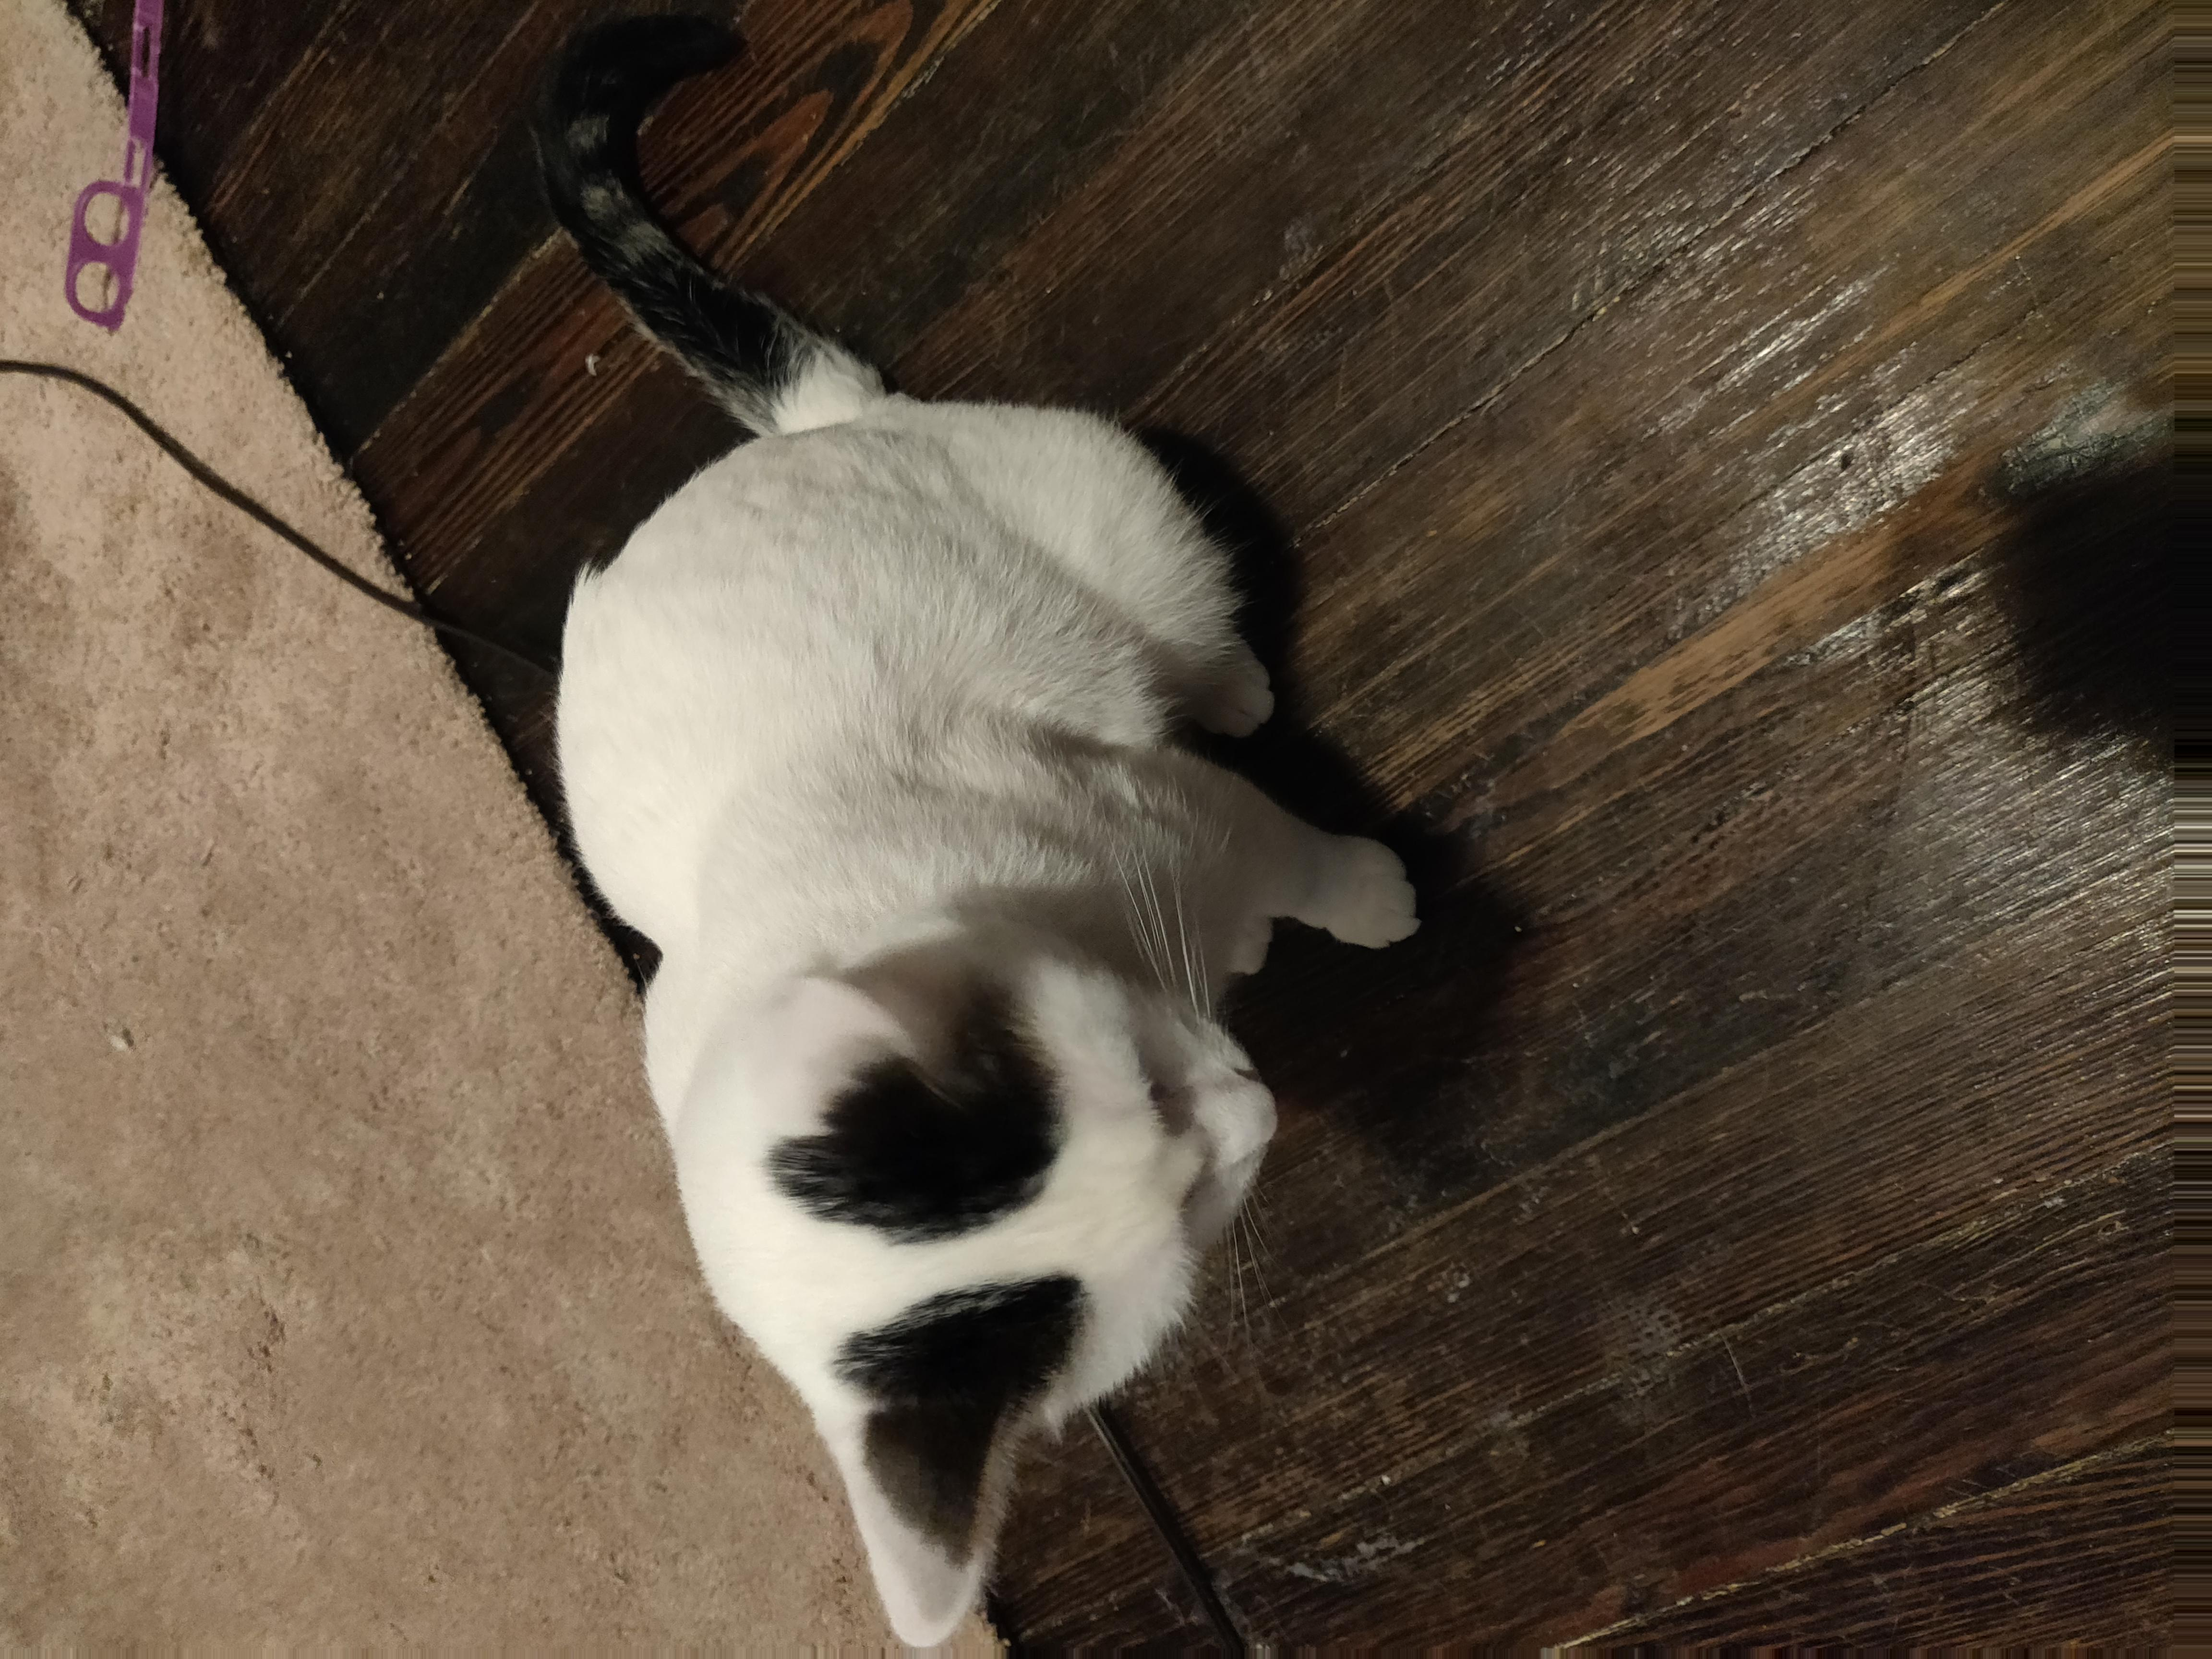cat: (518, 2, 1440, 1659)
